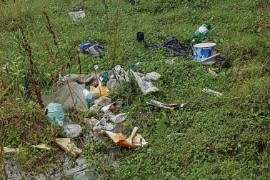trash: (28, 65, 169, 157), (138, 17, 220, 59), (74, 37, 108, 58), (200, 83, 226, 100), (66, 7, 91, 24)
